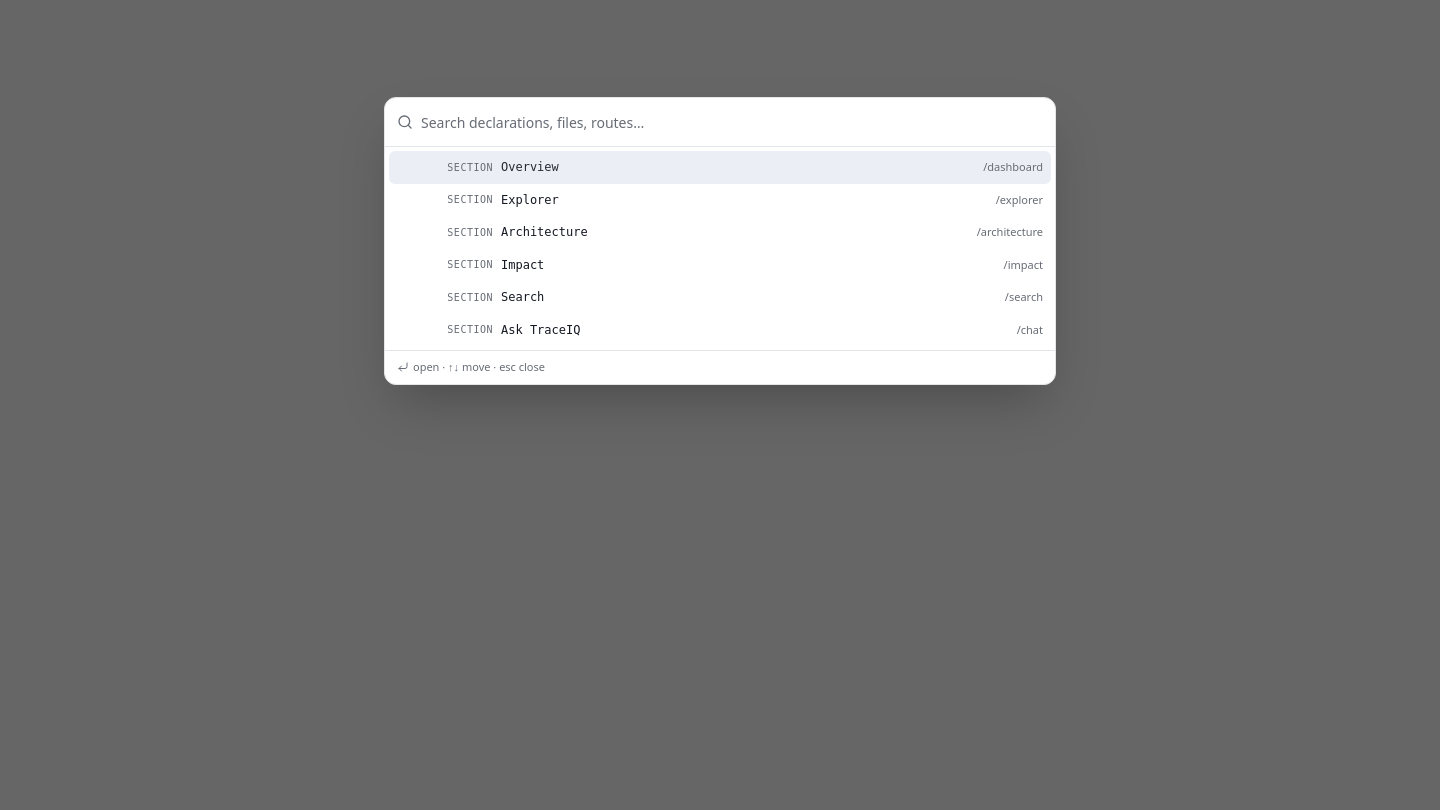
CommandPalette › filters sections by what was typed
The image size is (1440, 810).
Expected: the list named "Results" is shown, top-left (385, 147), bottom-right (1055, 350)
Type "impa" into the field labelled "Search declarations, files, routes" at (732, 122), box top-left (421, 98), bottom-right (1043, 146)
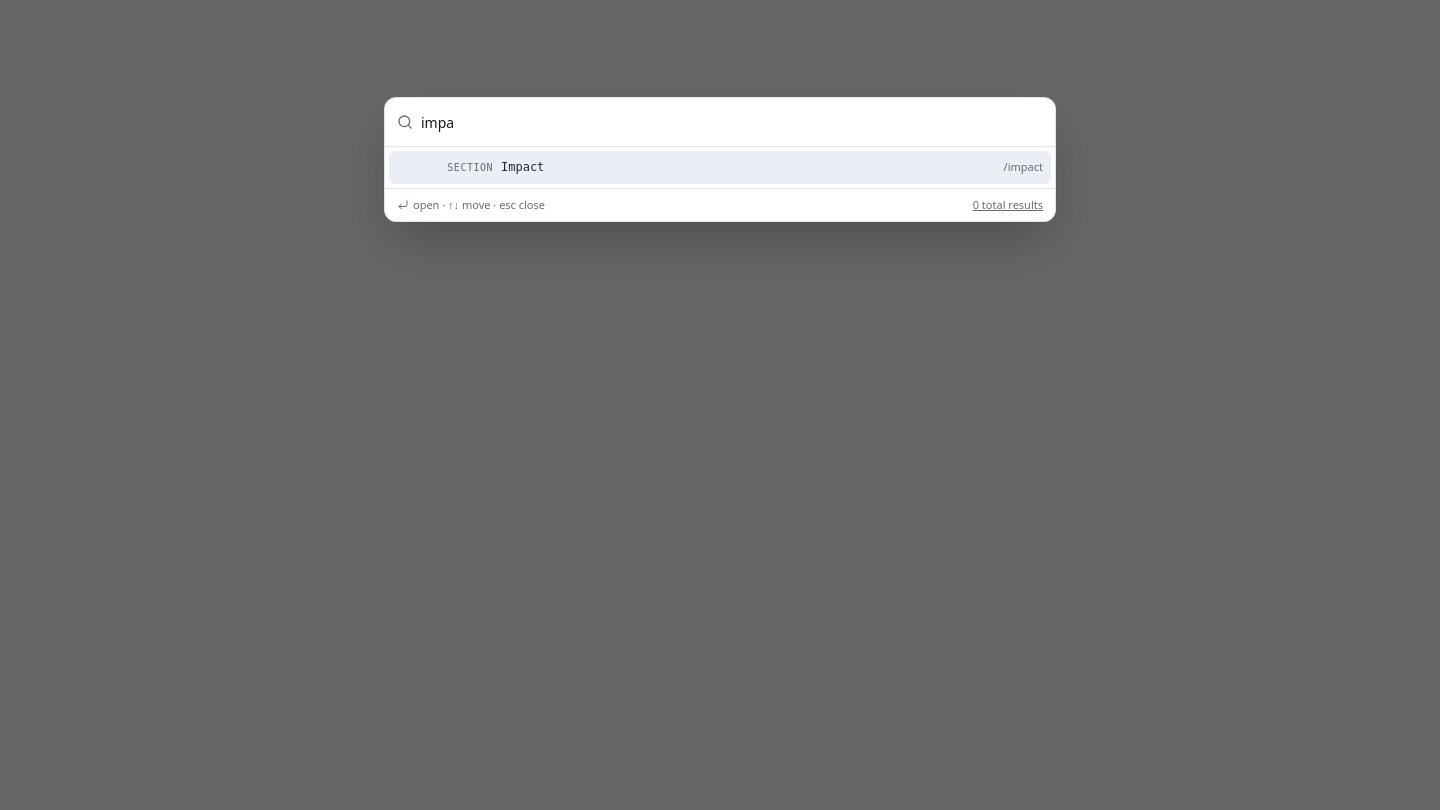
Expected: the text "Impact" is shown, top-left (501, 159), bottom-right (544, 175)
Expected: the button "Overview" is gone
